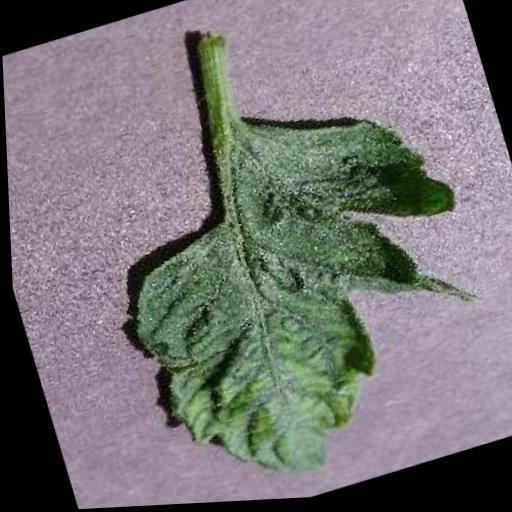Mosaic Virus: (74, 70, 512, 509)
